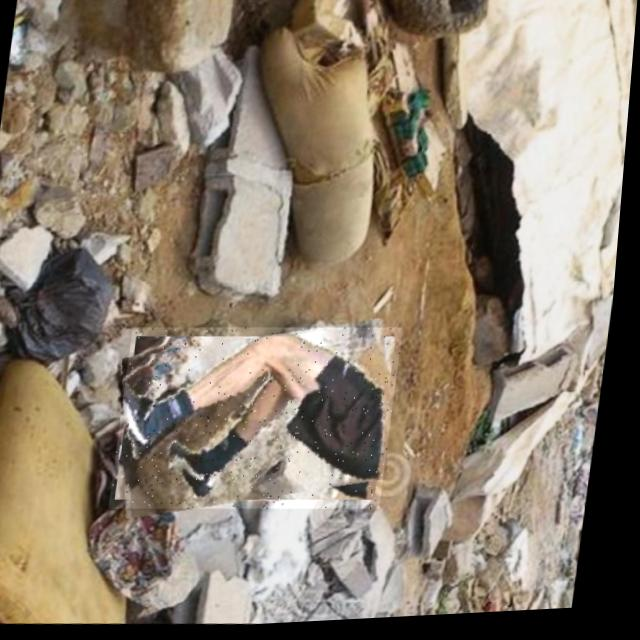Person in Rubble: (115, 318, 409, 524)
